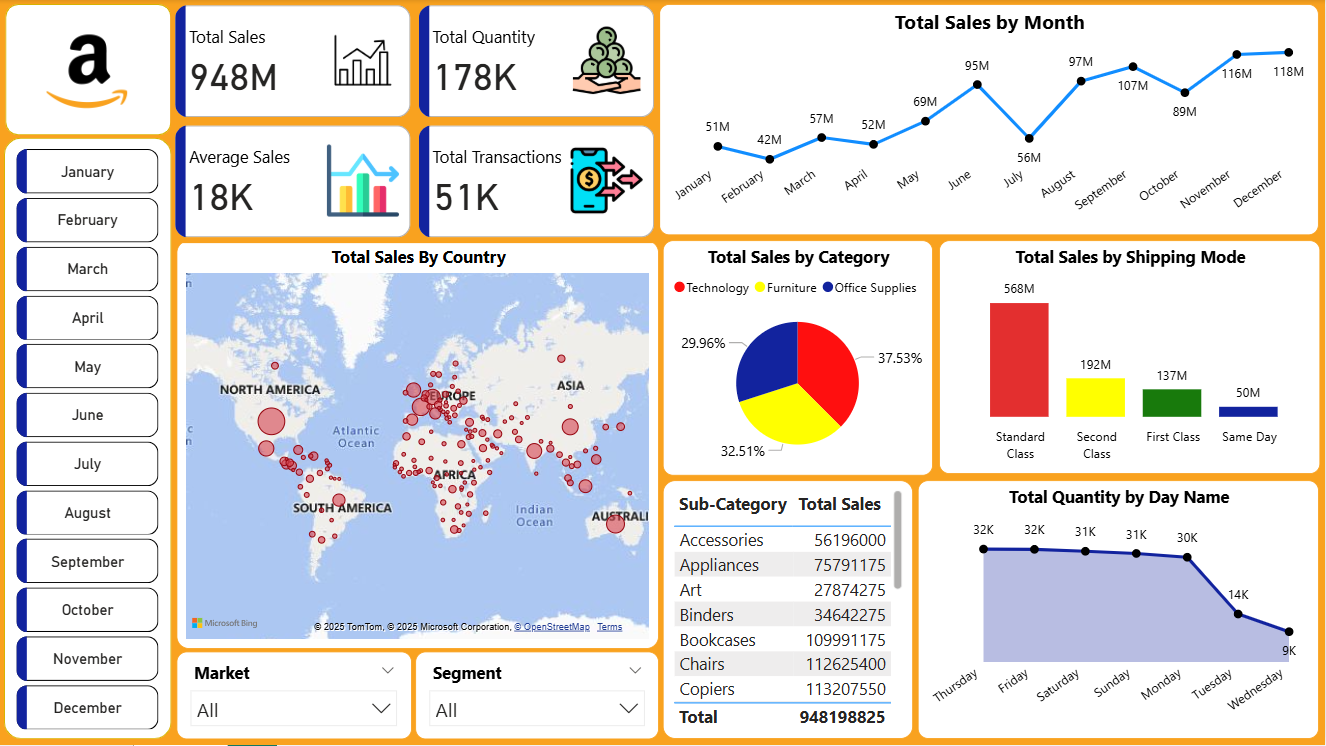

This screenshot's page, from the dashboard's own definition file:
{"tool":"powerbi","page":{"name":"Page 1","canvas":[1280,720],"ordinal":0},"visuals":[{"type":"lineChart","title":"Total Sales by Month","fields":{"Category":["Amazon Sales Data.Order Date.Variation.Date Hierarchy.Month","Amazon Sales Data.Order Date.Variation.Date Hierarchy.Day"],"Y":["Sum(Amazon Sales Data.Sales Amount)"]},"box":[637,4.8,637,223.2],"z":0},{"type":"clusteredColumnChart","title":"Total Sales by Shipping Mode","fields":{"Category":["Sales.Shipping Mode"],"Y":["Sum(Amazon Sales Data.Sales Amount)"]},"box":[907.2,232.8,368,225.6],"z":1000},{"type":"pieChart","title":"Total Sales by Category","fields":{"Category":["Sales.Category"],"Y":["Sum(Amazon Sales Data.Sales Amount)"]},"box":[640.6,232.8,260.6,226.8],"z":2000},{"type":"map","title":"Total Sales By Country","fields":{"Category":["Amazon Sales Data.Country"],"Size":["Sum(Amazon Sales Data.Sales Amount)"]},"box":[171.3,232.8,465.7,394.5],"z":3000},{"type":"slicer","fields":{"Values":["Amazon Sales Data.Segment"]},"box":[401.7,629.8,235.3,84.5],"z":4000},{"type":"shape","box":[6,4.8,160.5,126.7],"z":5000},{"type":"image","box":[8.4,2.4,155.6,129.1],"z":6000},{"type":"cardVisual","fields":{"Data":["Sum(Amazon Sales Data.Sales Amount)","Sum(Amazon Sales Data.Quantity)","Amazon Sales Data.Average Sales","Amazon Sales Data.Total Transactions"]},"box":[165.3,1.2,472.9,234],"z":7000},{"type":"slicer","fields":{"Values":["Amazon Sales Data.Market"]},"box":[171.3,629.8,226.8,84.5],"z":8000},{"type":"tableEx","fields":{"Values":["Amazon Sales Data.Sub-Category","Sum(Amazon Sales Data.Sales Amount)"]},"box":[640.6,464.5,241.3,249.7],"z":9000},{"type":"shape","box":[4.8,133.9,161.7,580.3],"z":10000},{"type":"advancedSlicerVisual","fields":{"Values":["Amazon Sales Data.Order Date.Variation.Date Hierarchy.Month"]},"box":[12.1,139.9,147.2,574.3],"z":11000},{"type":"areaChart","title":"Total Quantity by Day Name","fields":{"Y":["Sum(Amazon Sales Data.Quantity)"],"Category":["Amazon Sales Data.Day Name"]},"box":[886.7,464.5,387.3,249.7],"z":12000}]}

Visuals, with their boxes in screenshot pixels (x1, y1, x2, y2), scaled from the page's 1280x720 canvas onto the 1326x746 screenshot:
"Total Sales by Month" lineChart: x1=660 y1=5 x2=1320 y2=236
"Total Sales by Shipping Mode" clusteredColumnChart: x1=940 y1=241 x2=1321 y2=475
"Total Sales by Category" pieChart: x1=664 y1=241 x2=934 y2=476
"Total Sales By Country" map: x1=177 y1=241 x2=660 y2=650
slicer - Amazon Sales Data.Segment: x1=416 y1=653 x2=660 y2=740
shape: x1=6 y1=5 x2=172 y2=136
image: x1=9 y1=2 x2=170 y2=136
cardVisual - Sum(Amazon Sales Data.Sales Amount) x Sum(Amazon Sales Data.Quantity): x1=171 y1=1 x2=661 y2=244
slicer - Amazon Sales Data.Market: x1=177 y1=653 x2=412 y2=740
tableEx - Amazon Sales Data.Sub-Category x Sum(Amazon Sales Data.Sales Amount): x1=664 y1=481 x2=914 y2=740
shape: x1=5 y1=139 x2=172 y2=740
advancedSlicerVisual - Amazon Sales Data.Order Date.Variation.Date Hierarchy.Month: x1=13 y1=145 x2=165 y2=740
"Total Quantity by Day Name" areaChart: x1=919 y1=481 x2=1320 y2=740
